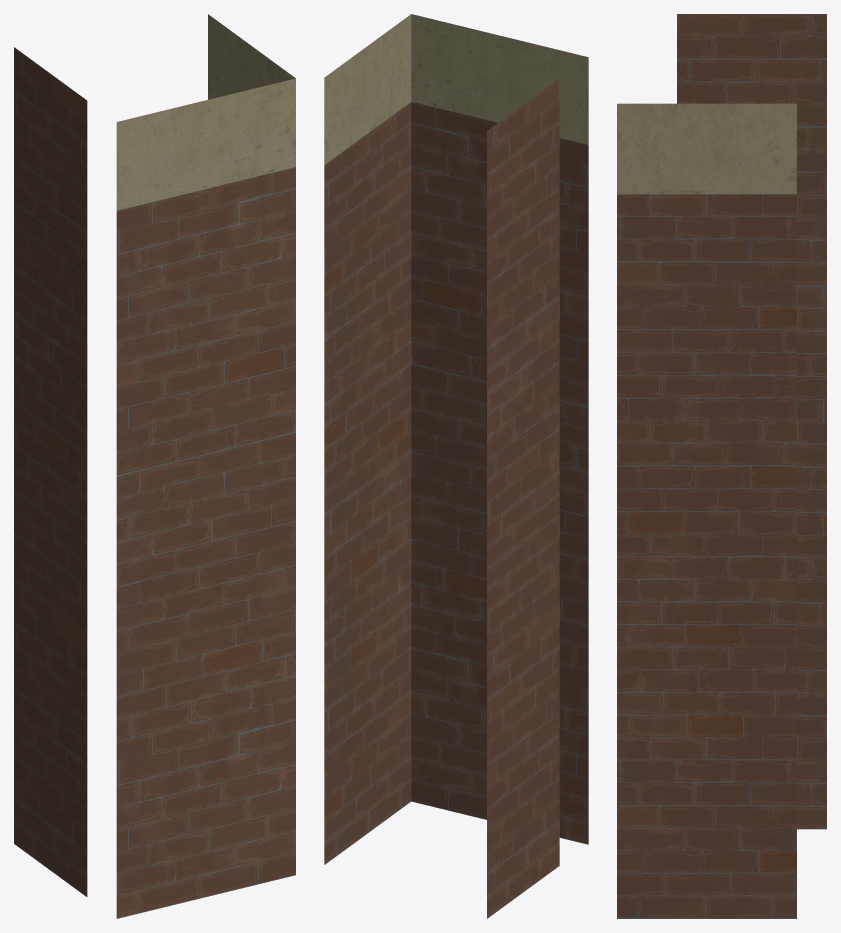
File: Brick_TopTrim_90Angle_L.gltf
3 renders of one model, left to right at view 1: azimuth 30°, elevation 25°; view 2: azimuth 150°, elevation 25°; view 3: azimuth 270°, elevation 25°, orthographic. The views are drawn at different scales.
Parts seen in each view (by area): view 1: Brick_TopTrim_90Angle_L; view 2: Brick_TopTrim_90Angle_L; view 3: Brick_TopTrim_90Angle_L.
Boxes of the visible parts, x1=… form: Brick_TopTrim_90Angle_L: x1=14, y1=14, x2=295, y2=918; Brick_TopTrim_90Angle_L: x1=324, y1=14, x2=588, y2=918; Brick_TopTrim_90Angle_L: x1=617, y1=14, x2=826, y2=918.
Size of the model in its own units: 0.7062 by 3 by 0.7.
Materials: 3 (3 with a texture image).
